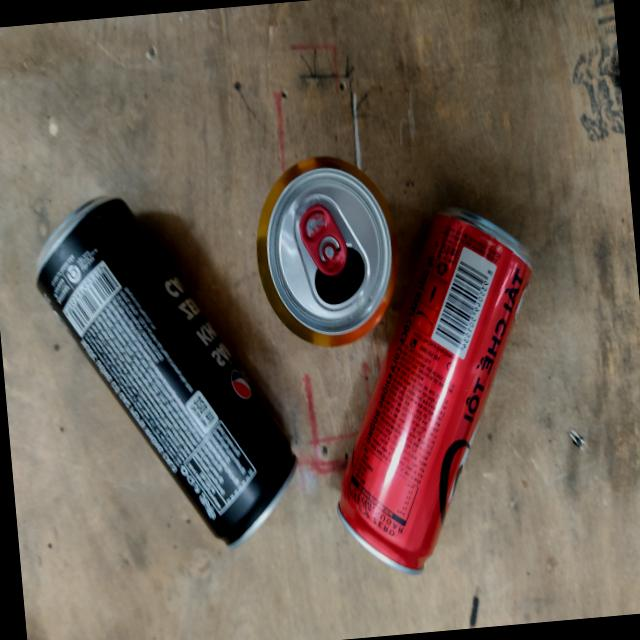kim_loai: (36, 198, 295, 548), (338, 209, 532, 574), (256, 157, 398, 346)
